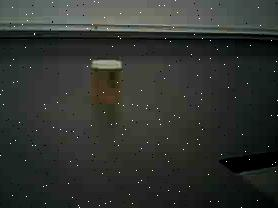Bottle B: (83, 54, 130, 111)
